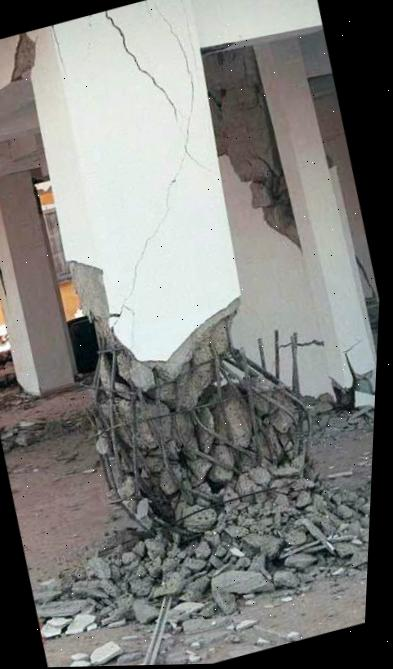spalling: (69, 262, 305, 532), (12, 32, 35, 81)
